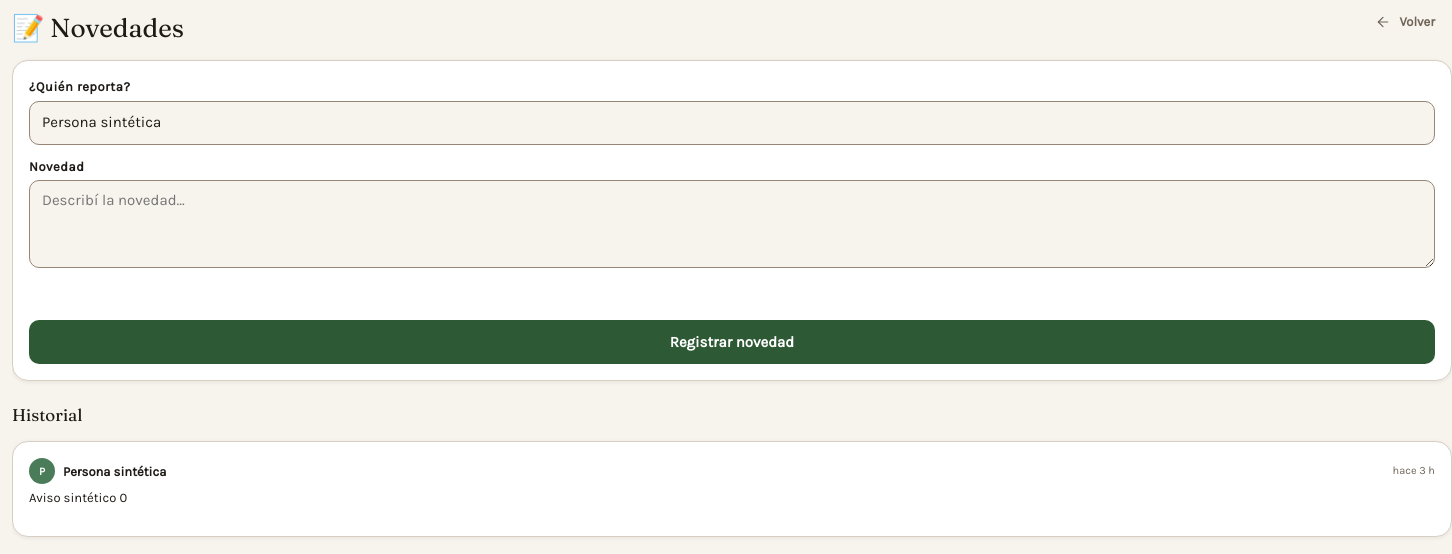
Scenario: 📝 Novedades › EMPLOYEE reporta como sí mismo: nunca envía employeeId; Idempotency-Key en el header
Expected: the text "Aviso sintético 0" is shown, [29, 490, 127, 505]
Expected: the field labelled "¿Quién reporta?" holds "Persona sintética", [29, 100, 1435, 144]
Type "  Se cortó   la luz " into the text box labelled "Novedad".
click(732, 224); type("  Se cortó   la luz ")  # box [29, 180, 1435, 268]
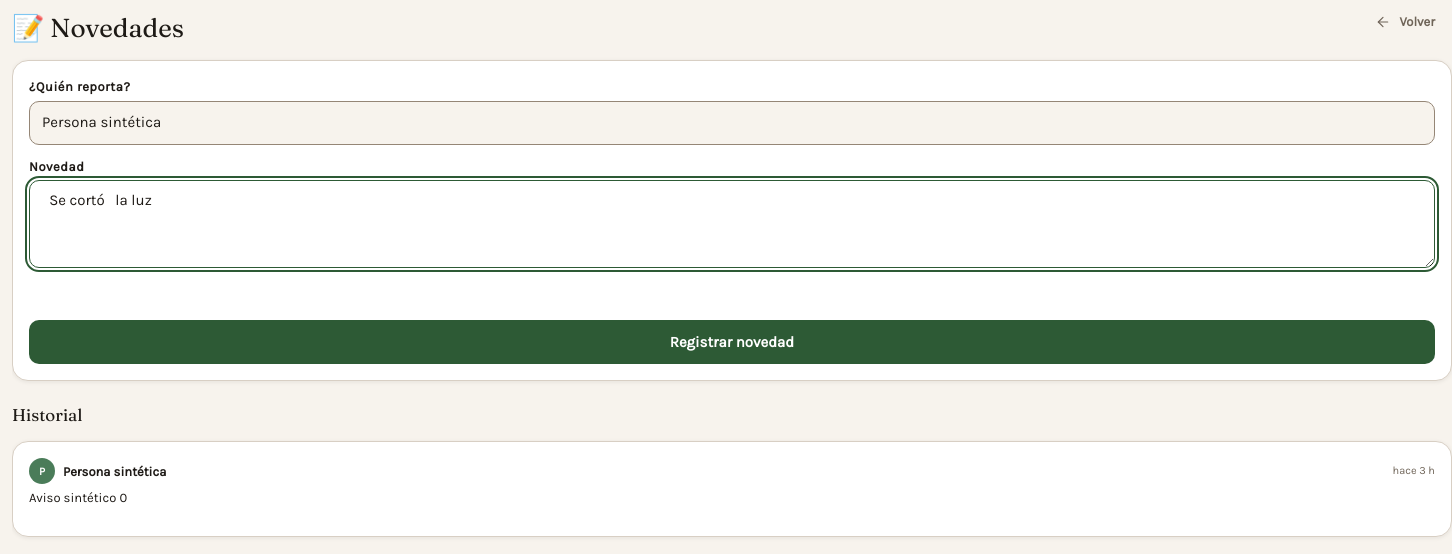
Click the button "Registrar novedad".
click(732, 342)  # box [29, 320, 1435, 364]
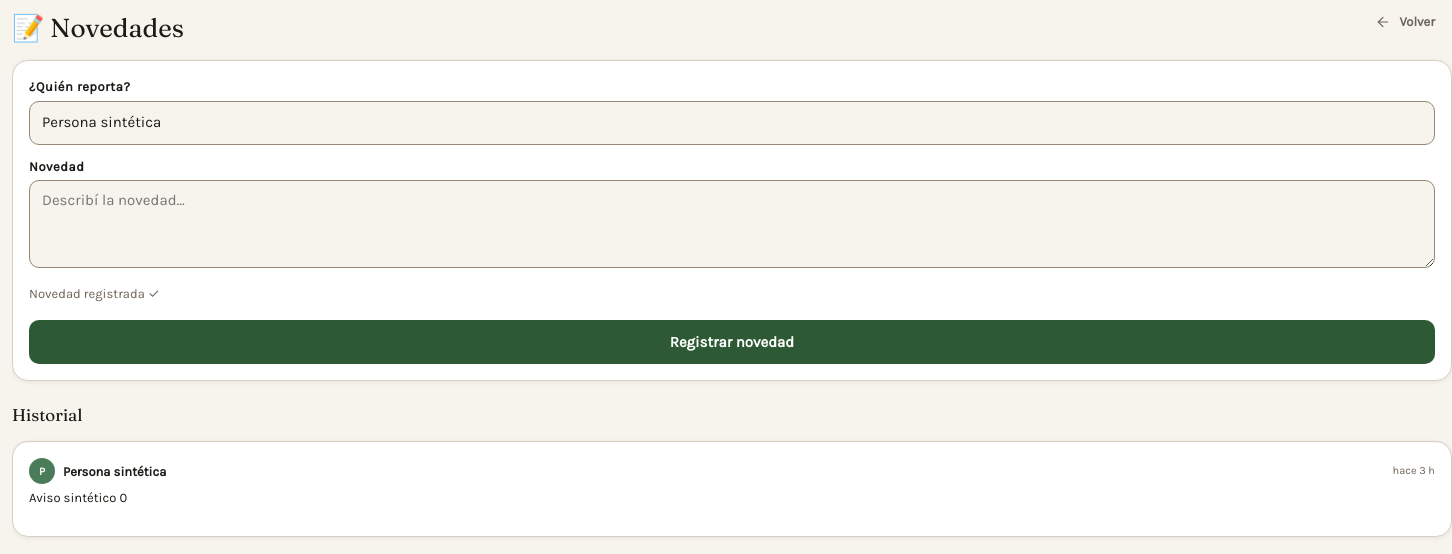
Now the text "Novedad registrada ✓" is shown, box [29, 284, 160, 304]
